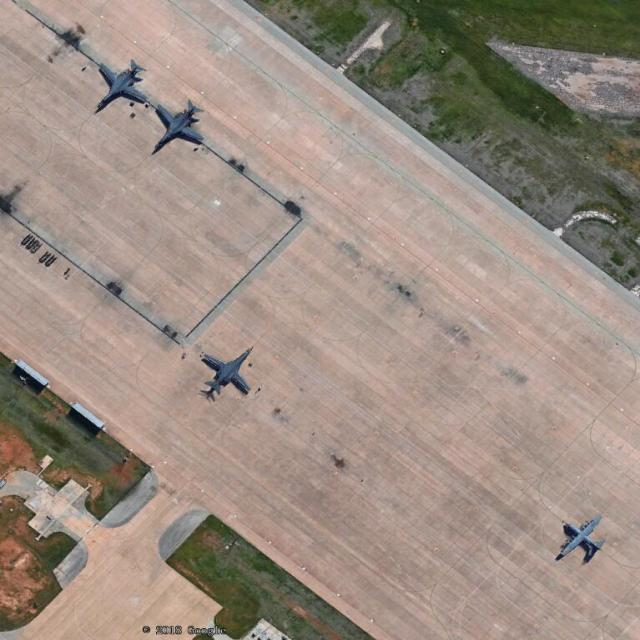fighter jet: (191, 349, 273, 404), (89, 52, 150, 115), (551, 512, 608, 573), (157, 105, 212, 156)
